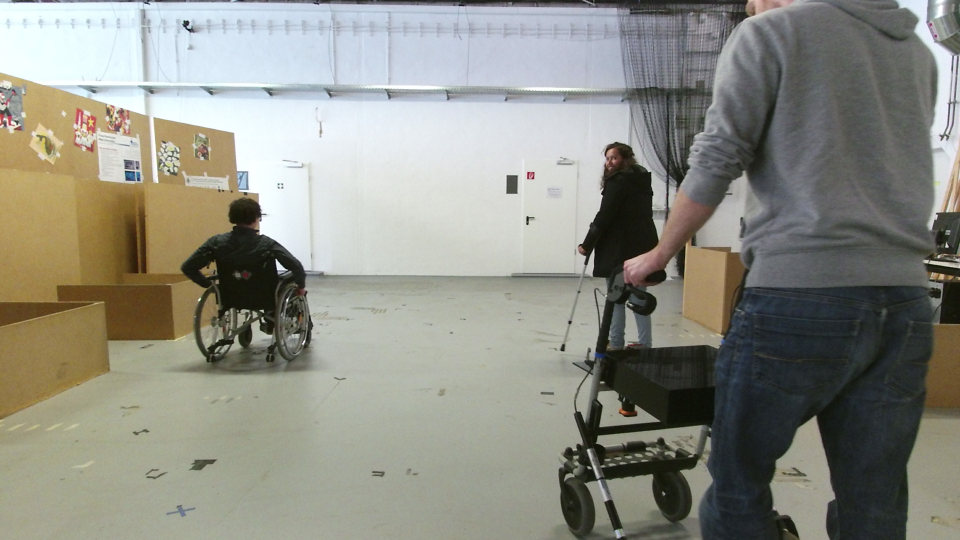crutches: (557, 136, 658, 363)
wheelchair: (176, 188, 317, 370)
